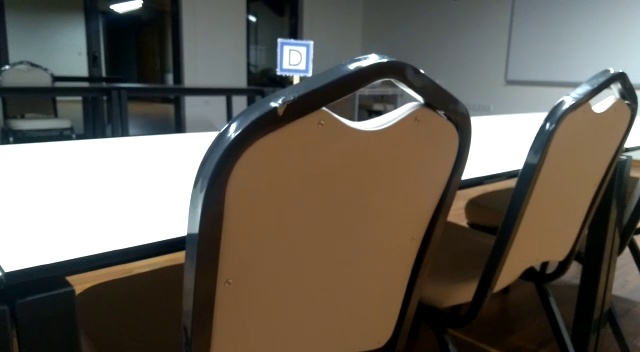durak: (275, 39, 314, 77)
